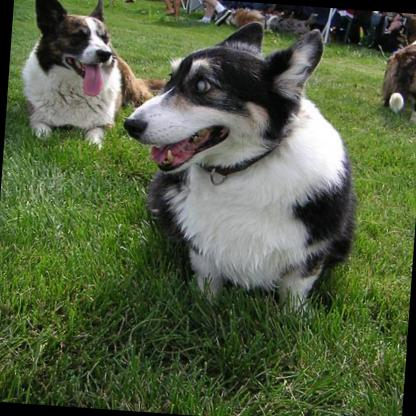Cardigan: (110, 11, 367, 318), (8, 0, 170, 150), (375, 23, 416, 123)
